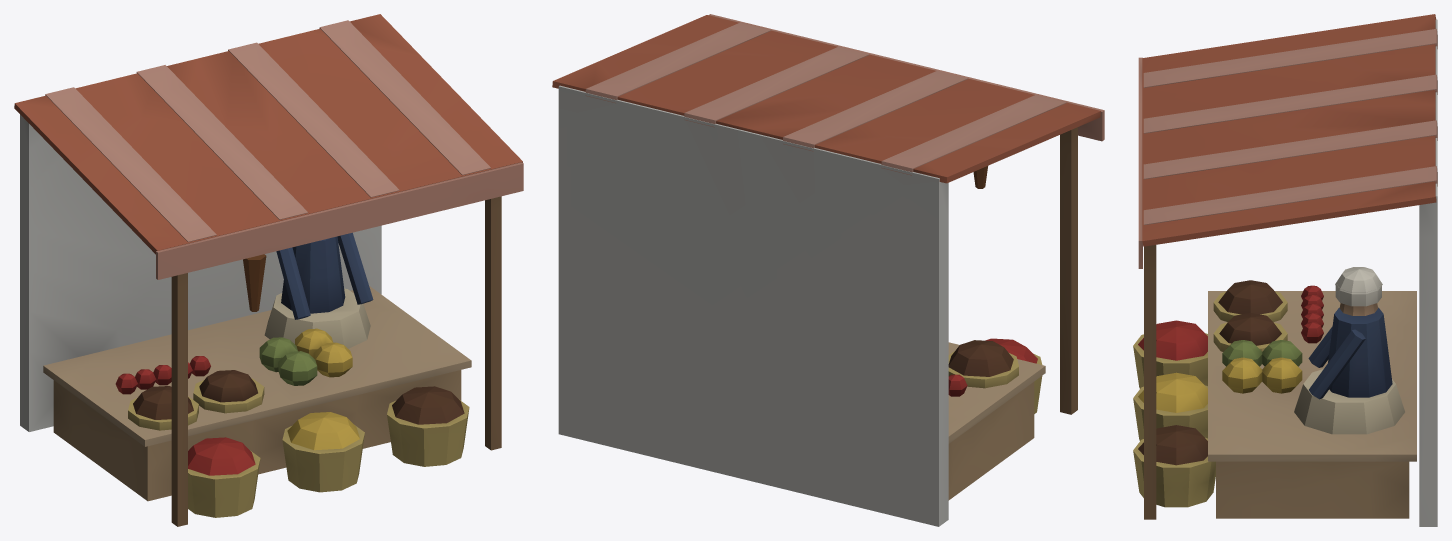
Rendered from stall-fruit.glb.
The picture shows the model from 3 angles, left to right: view 1: azimuth 30°, elevation 25°; view 2: azimuth 150°, elevation 25°; view 3: azimuth 270°, elevation 25°; orthographic projection. The views are drawn at different scales.
Visible parts, largest first — view 1: base; view 2: base; view 3: base.
Part boxes in pixels (bbox=[...]): base: bbox=[14, 14, 523, 526]; base: bbox=[552, 14, 1104, 526]; base: bbox=[1133, 14, 1437, 526].
Size of the model in its own units: 2.81 by 2.39 by 1.97.
